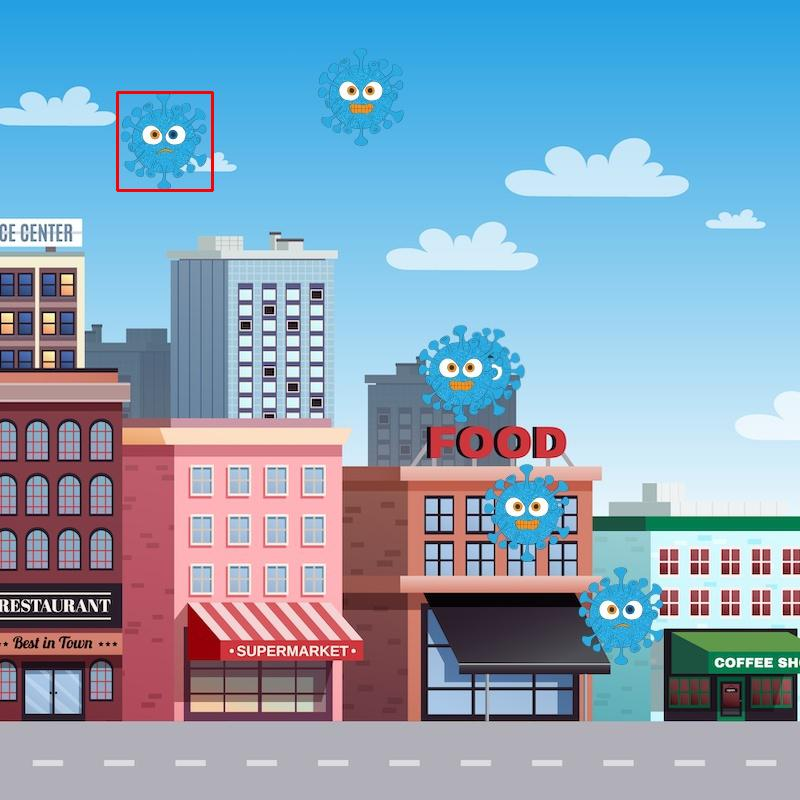corona1: (316, 45, 412, 148), (417, 335, 500, 422), (491, 470, 569, 555)
corona2: (122, 95, 212, 192), (584, 568, 659, 668)
